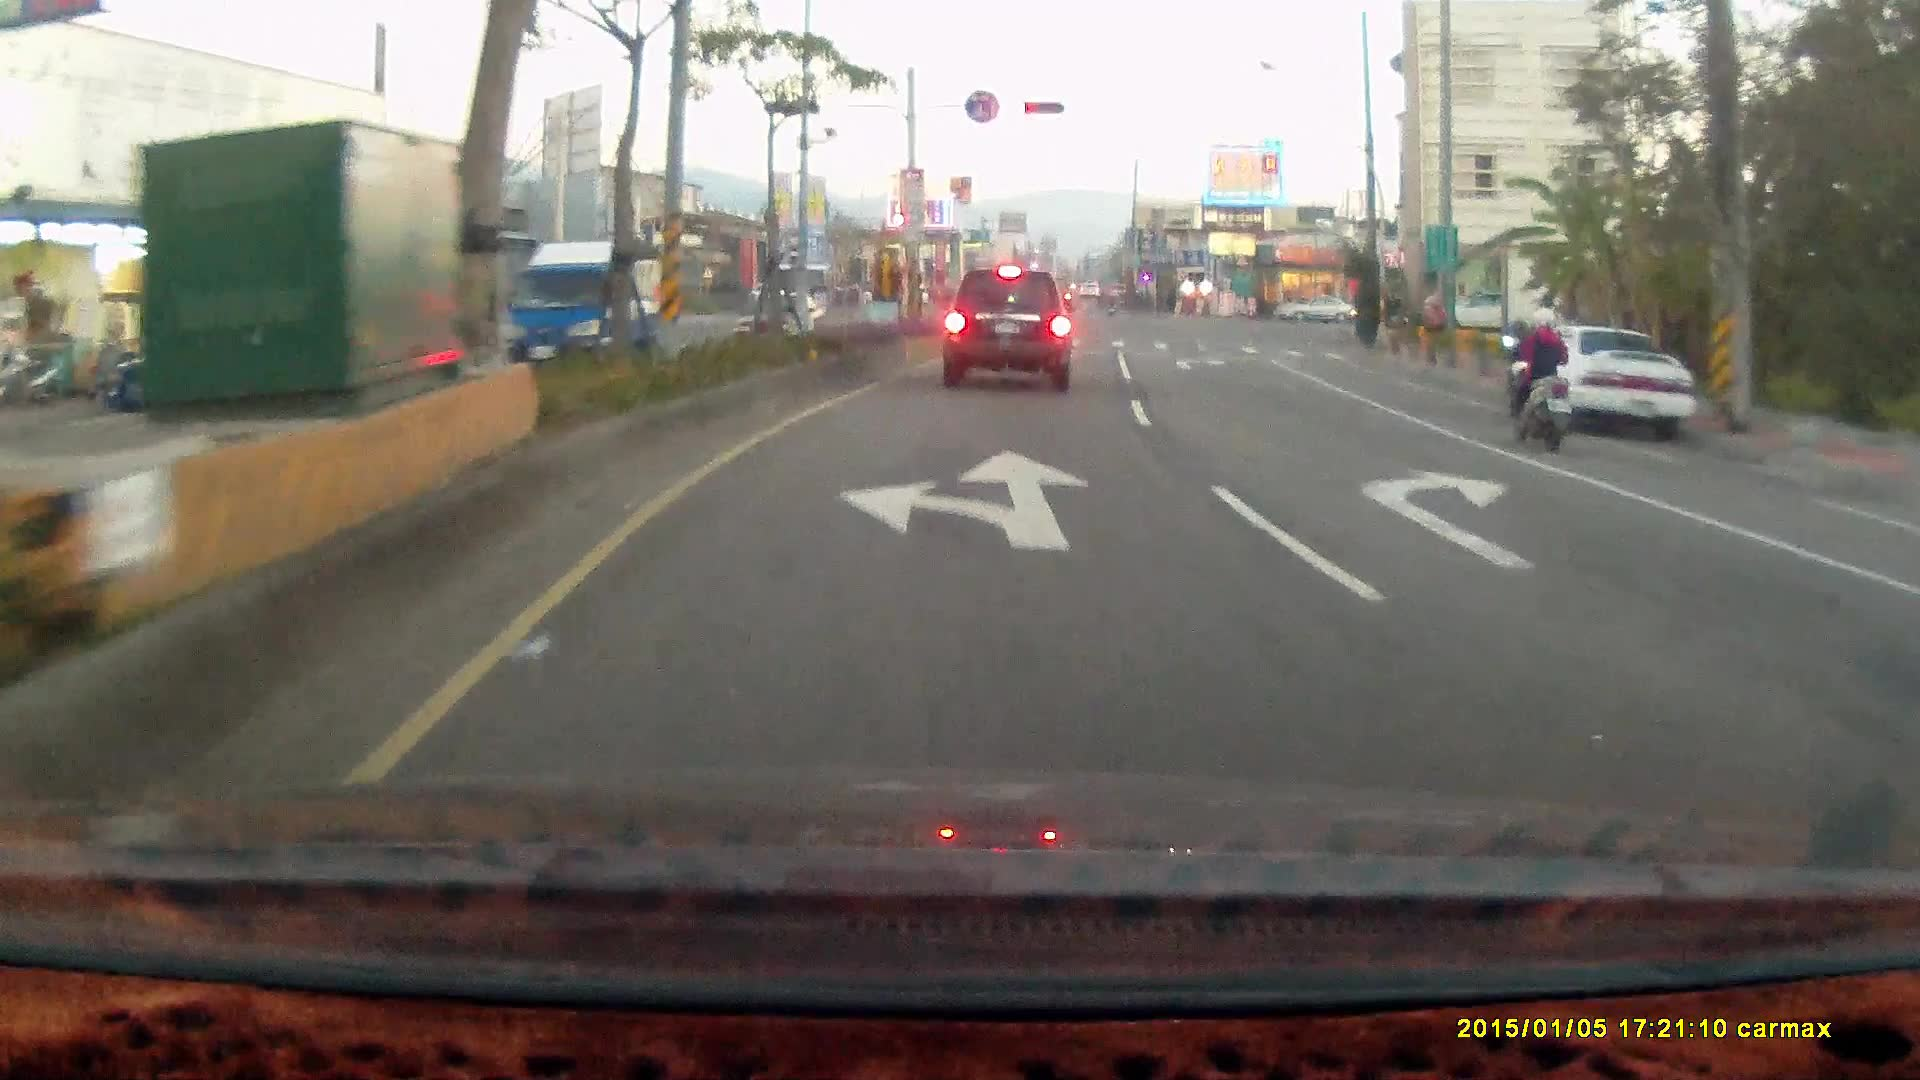rider: (1497, 304, 1577, 451)
vehicle: (487, 237, 673, 375), (1511, 325, 1696, 441), (1515, 328, 1705, 437), (941, 267, 1074, 391), (1896, 493, 1920, 836), (1883, 528, 1920, 690), (1431, 288, 1532, 335), (1273, 292, 1356, 323)
